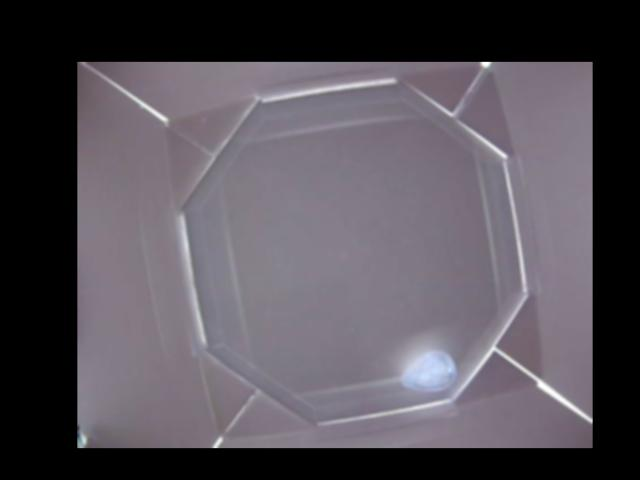Pebble: (398, 349, 455, 390)
